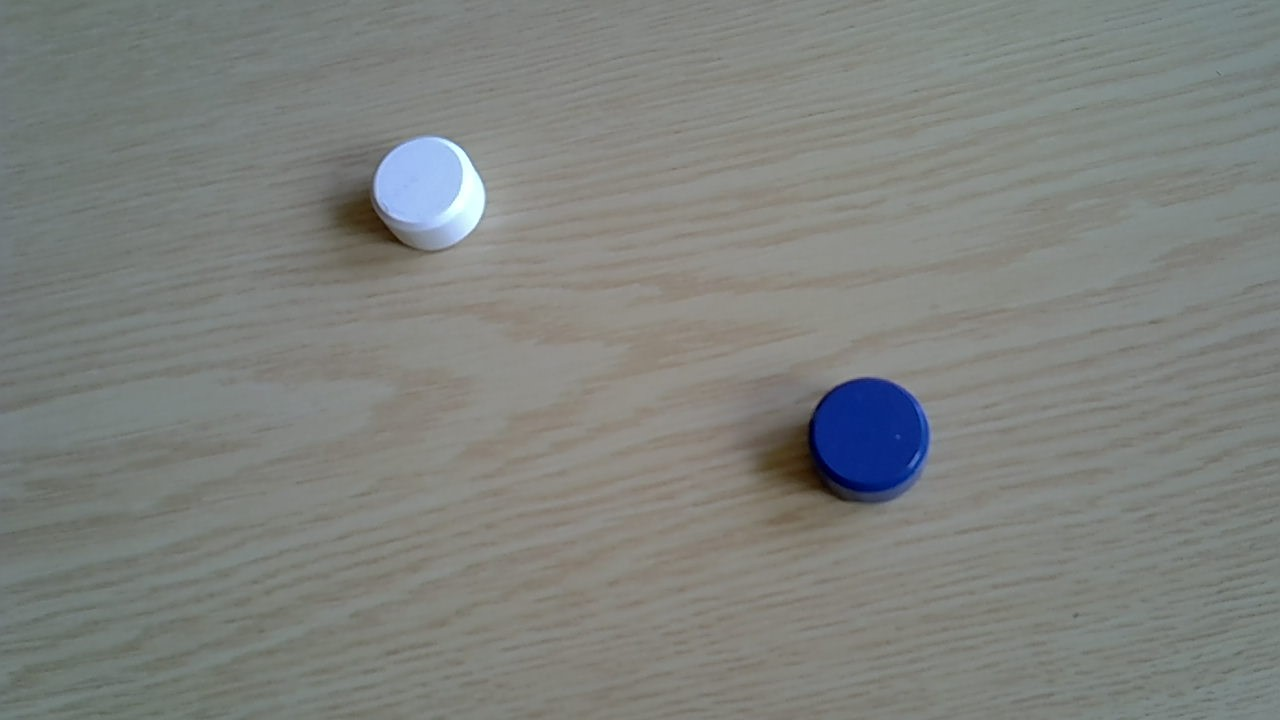WerkStueck: (807, 377, 933, 504), (370, 134, 486, 254)
